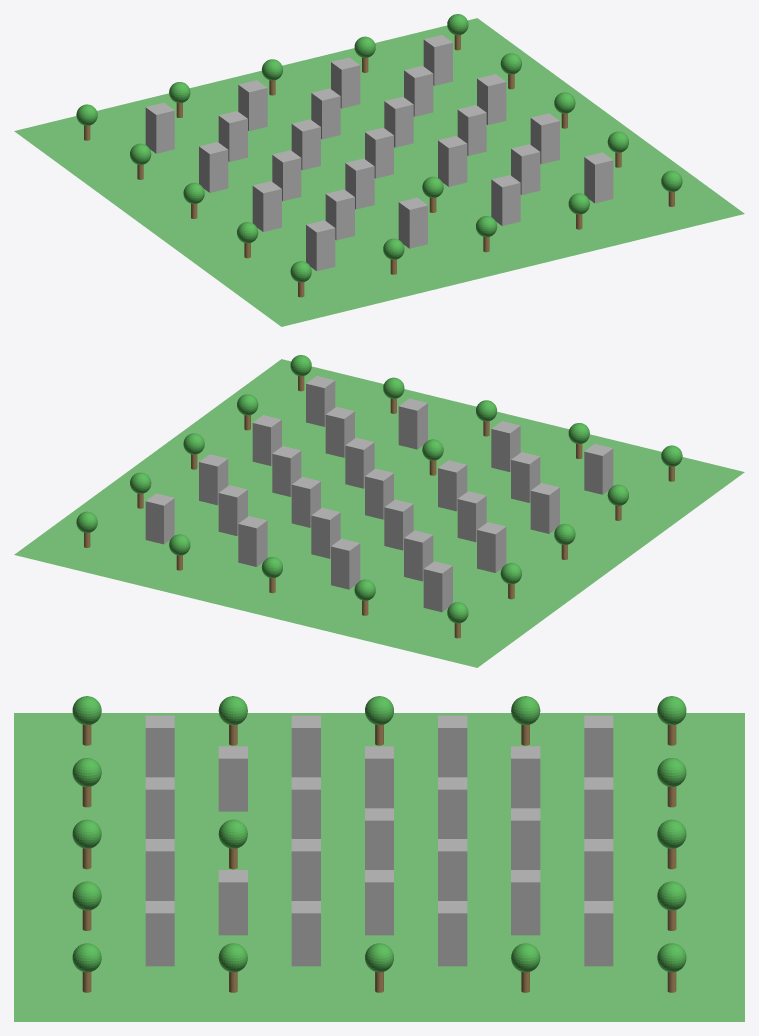
Rendered from virtual_world.glb.
The picture shows the model from 3 angles, top to bottom: view 1: azimuth 30°, elevation 25°; view 2: azimuth 150°, elevation 25°; view 3: azimuth 270°, elevation 25°; orthographic projection. The views are drawn at different scales.
Parts seen in each view (by area): view 1: Ground, Cube, Cube.020, Cube.007, Cube.013, Cube.003, Cube.014, Cube.001, Cube.002, Cube.016, Cube.017, Cube.019 (+13 smaller); view 2: Ground, Cube.003, Cube.023, Cube.010, Cube.013, Cube.016, Cube, Cube.001, Cube.002, Cube.017, Cube.019, Cube.021 (+13 smaller); view 3: Ground, Cube.004, Cube.017, Cube.019, Cube.020, Cube.021, Cube.022, Cube.023, Cube.018, Cube.006, Cube, Cube.001 (+30 smaller).
Part boxes in pixels (box(x1,y1,x2,y2)): Ground: box(14, 18, 744, 326); Cube: box(306, 220, 335, 271); Cube.020: box(584, 152, 613, 203); Cube.007: box(398, 197, 427, 248); Cube.013: box(491, 175, 520, 225); Cube.003: box(145, 103, 174, 153); Cube.014: box(438, 136, 467, 186); Cube.001: box(252, 181, 281, 231); Cube.002: box(199, 142, 228, 192); Cube.016: box(331, 57, 360, 108); Cube.017: box(511, 144, 540, 194); Cube.019: box(404, 66, 433, 116); Ground: box(14, 359, 744, 667); Cube.003: box(423, 561, 452, 612); Cube.023: box(145, 493, 174, 544); Cube.010: box(331, 538, 360, 589); Cube.013: box(398, 398, 427, 449); Cube.016: box(238, 516, 267, 566); Cube: box(584, 444, 613, 494); Cube.001: box(530, 483, 559, 533); Cube.002: box(477, 522, 506, 572); Cube.017: box(325, 407, 354, 457); Cube.019: box(218, 485, 247, 535); Cube.021: box(252, 415, 281, 465); Ground: box(14, 713, 744, 1021); Cube.004: box(218, 746, 247, 811); Cube.017: box(218, 870, 247, 935); Cube.019: box(511, 870, 540, 935); Cube.020: box(145, 901, 174, 966); Cube.021: box(291, 901, 320, 966); Cube.022: box(438, 901, 467, 966); Cube.023: box(584, 901, 613, 966); Cube.018: box(365, 870, 393, 935); Cube.006: box(511, 746, 540, 808); Cube: box(145, 715, 174, 777); Cube.001: box(291, 715, 320, 777).
Size of the model in its own units: 50 by 4 by 50.
